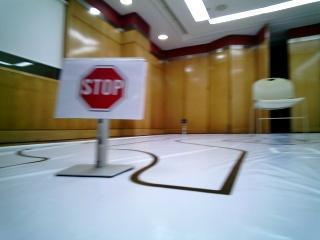stop: (69, 60, 132, 118)
